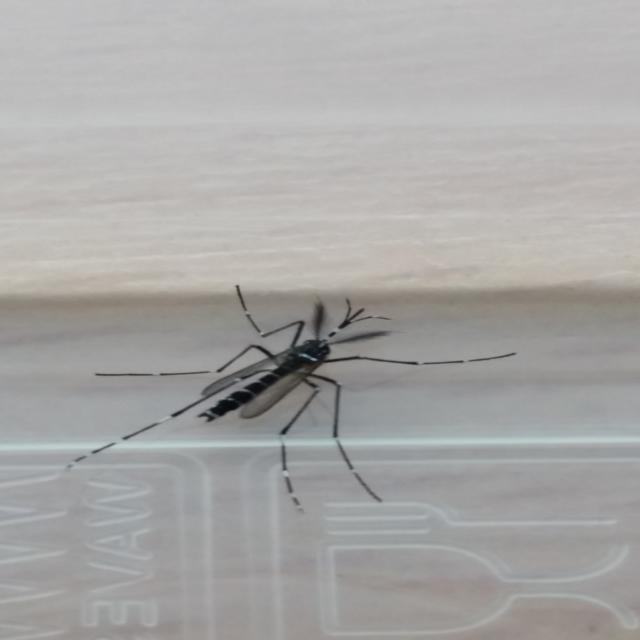albopictus: (52, 282, 510, 521)
